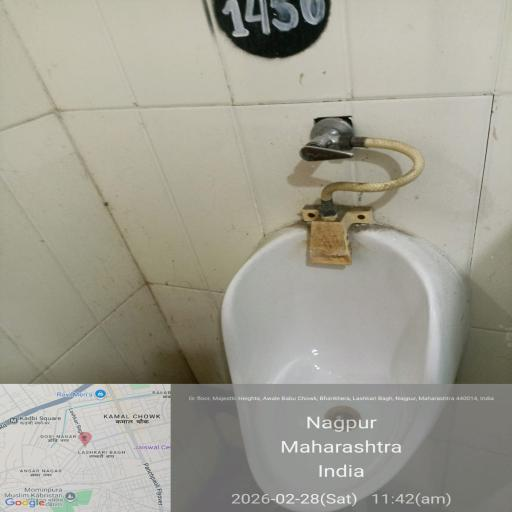clean_floor: (13, 20, 458, 232)
clean_urinal: (194, 235, 478, 512)
